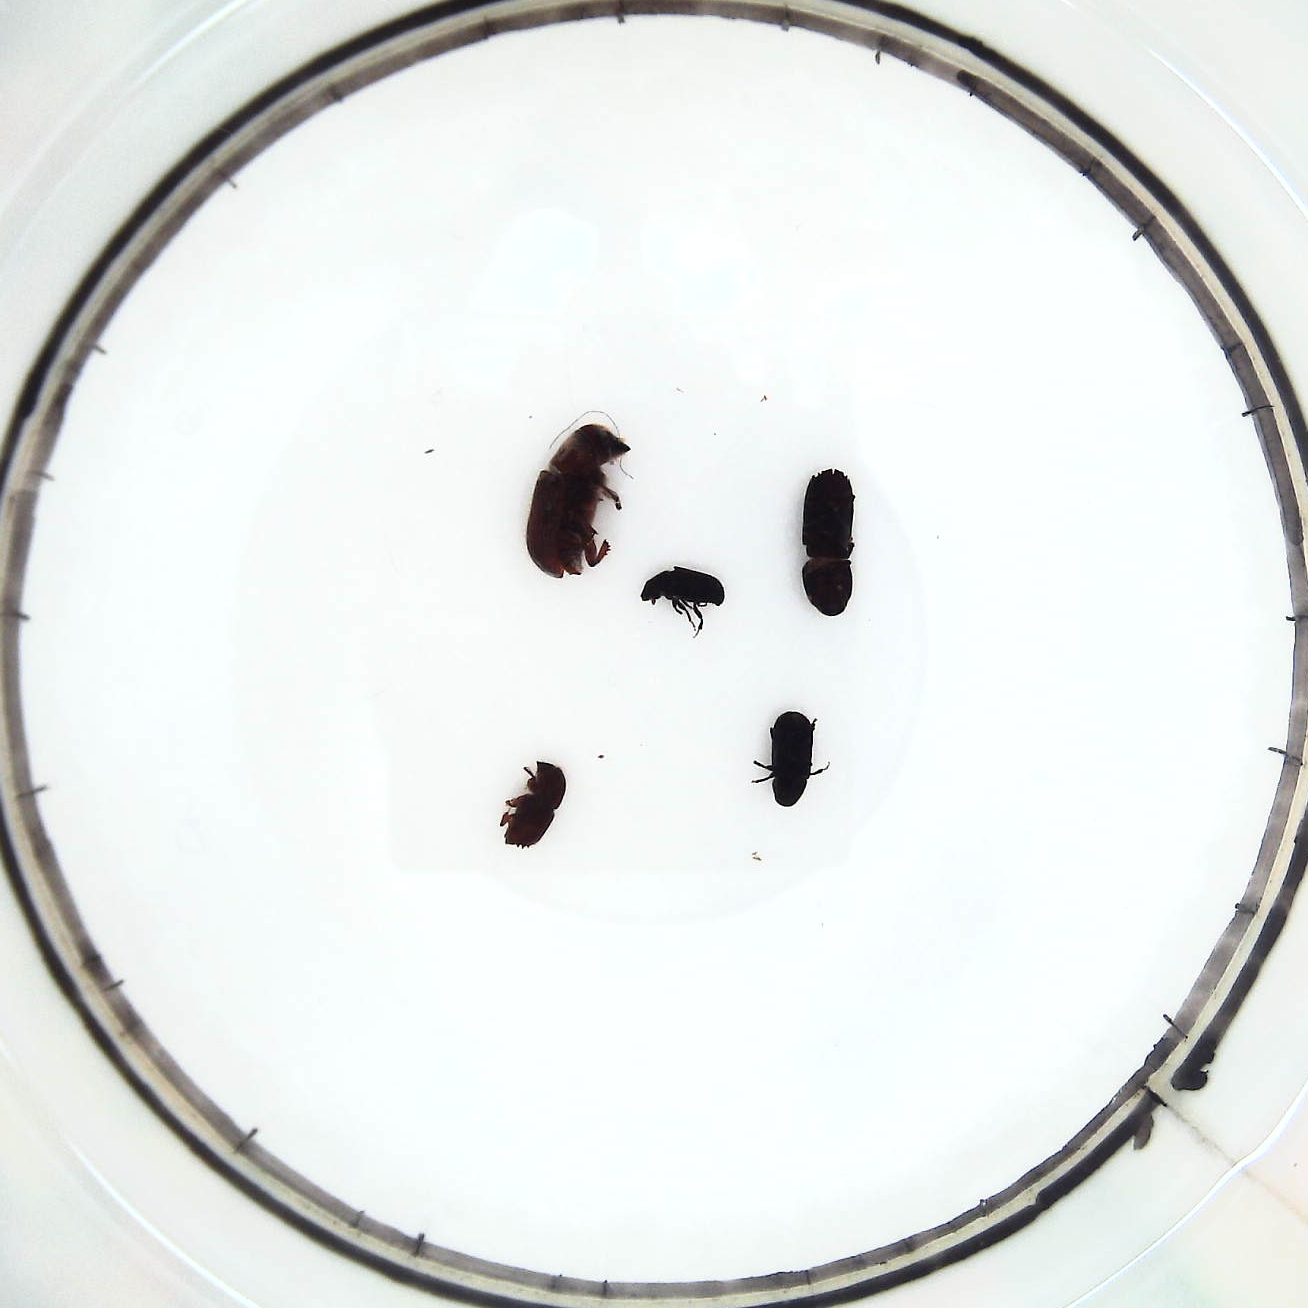Boerner: (791, 465, 867, 620)
Leconte: (520, 420, 632, 582)
armandi: (752, 706, 825, 811)
coleoptera: (632, 565, 728, 635)
linnaeus: (499, 755, 573, 856)
